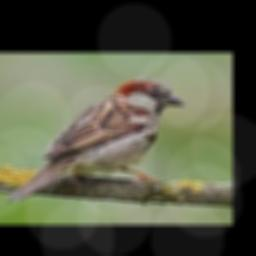Sparrow: (7, 77, 186, 202)
